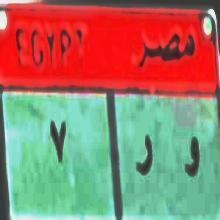7: (47, 112, 68, 166)
raa: (135, 131, 154, 184)
waw: (179, 126, 202, 184)
